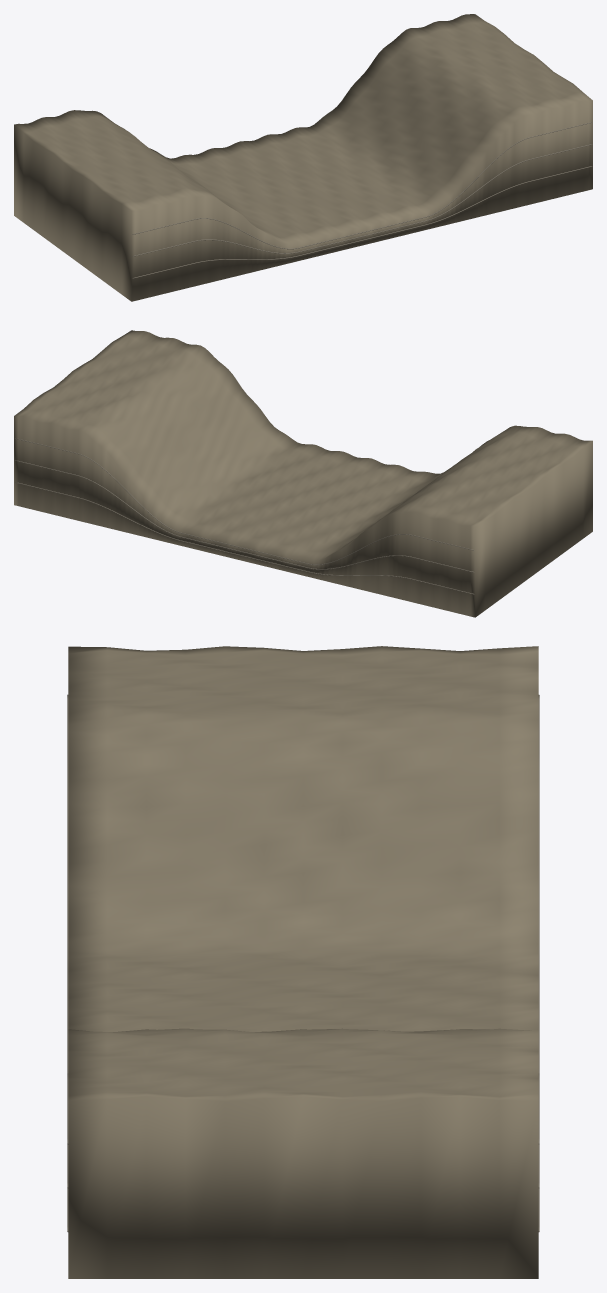
File: jordan-bed.glb
3 renders of one model, top to bottom at view 1: azimuth 30°, elevation 25°; view 2: azimuth 150°, elevation 25°; view 3: azimuth 270°, elevation 25°, orthographic. The views are drawn at different scales.
Visible parts, largest first — view 1: jordan-bed-jordan-sediment, jordan-bed-jordan-alluvium-layer; view 2: jordan-bed-jordan-sediment, jordan-bed-jordan-alluvium-layer; view 3: jordan-bed-jordan-sediment, jordan-bed-jordan-alluvium-layer.
Boxes of the visible parts, x1=… form: jordan-bed-jordan-sediment: x1=14, y1=14, x2=592, y2=301; jordan-bed-jordan-alluvium-layer: x1=132, y1=122, x2=592, y2=278; jordan-bed-jordan-sediment: x1=14, y1=330, x2=592, y2=617; jordan-bed-jordan-alluvium-layer: x1=14, y1=438, x2=474, y2=594; jordan-bed-jordan-sediment: x1=68, y1=646, x2=538, y2=1278; jordan-bed-jordan-alluvium-layer: x1=67, y1=694, x2=539, y2=1231.
Size of the model in its own units: 1.54 by 0.291 by 0.6828.
